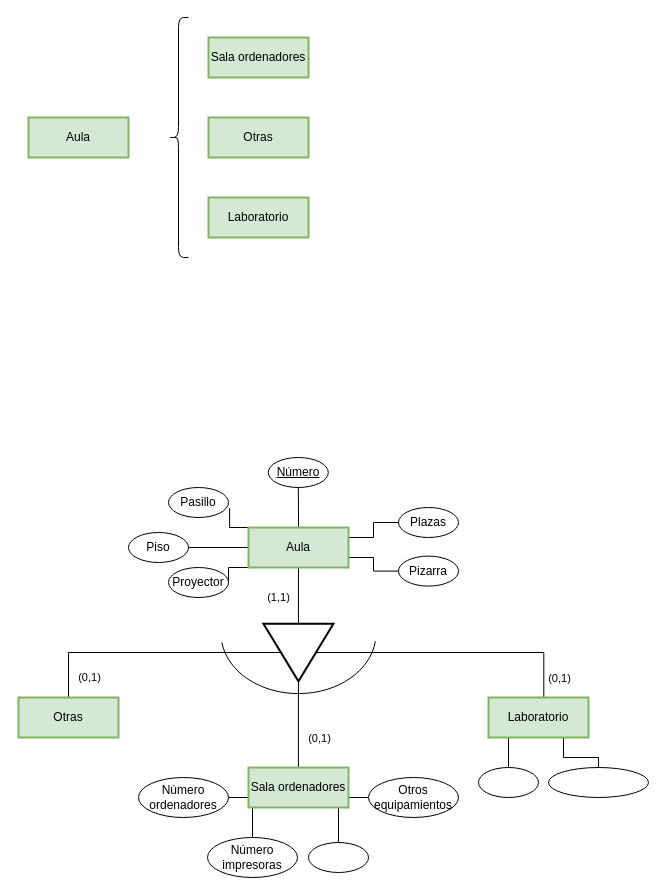
The diagram is 666 pixels wide and 895 high, and some of its shapes have lost their labels. The centre of each missing label's shape, as x and y in pixels:
"Equipamiento" goes at (x=598, y=782).
"Escáner" goes at (x=338, y=857).
"Tipo" goes at (x=508, y=782).
